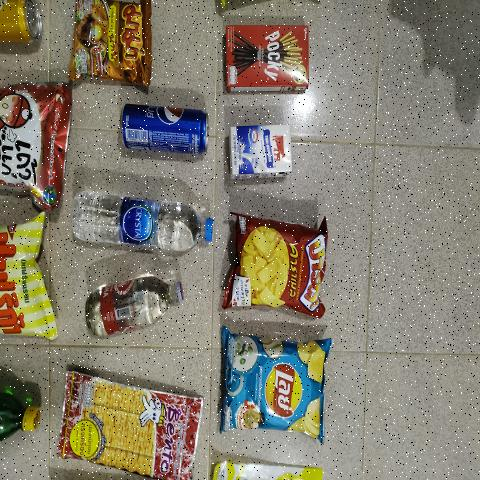bento_red: (57, 390, 205, 470)
crystal: (68, 192, 215, 256)
lay_blue: (224, 340, 322, 436)
party_red: (231, 217, 321, 309)
pepsi_blue: (119, 98, 210, 158)
pokki: (225, 25, 307, 93)
singha_soda: (87, 277, 183, 338)
thai_denmark: (230, 125, 288, 175)
